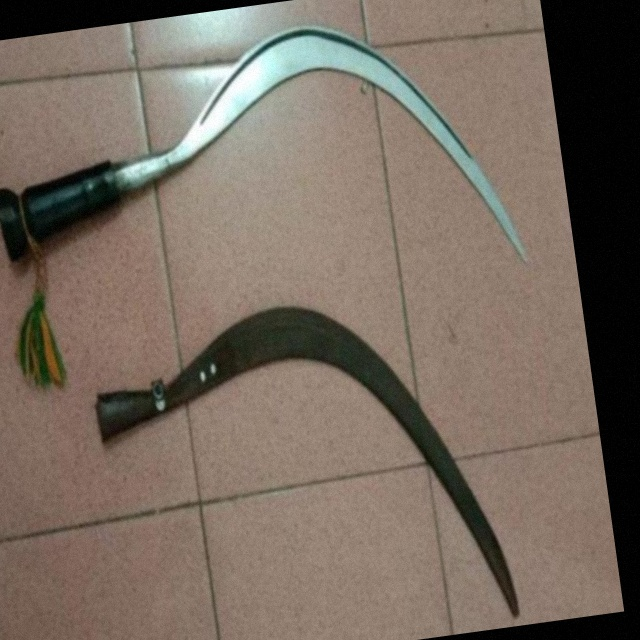Sharp-Object: (0, 0, 541, 342), (73, 268, 555, 640)
